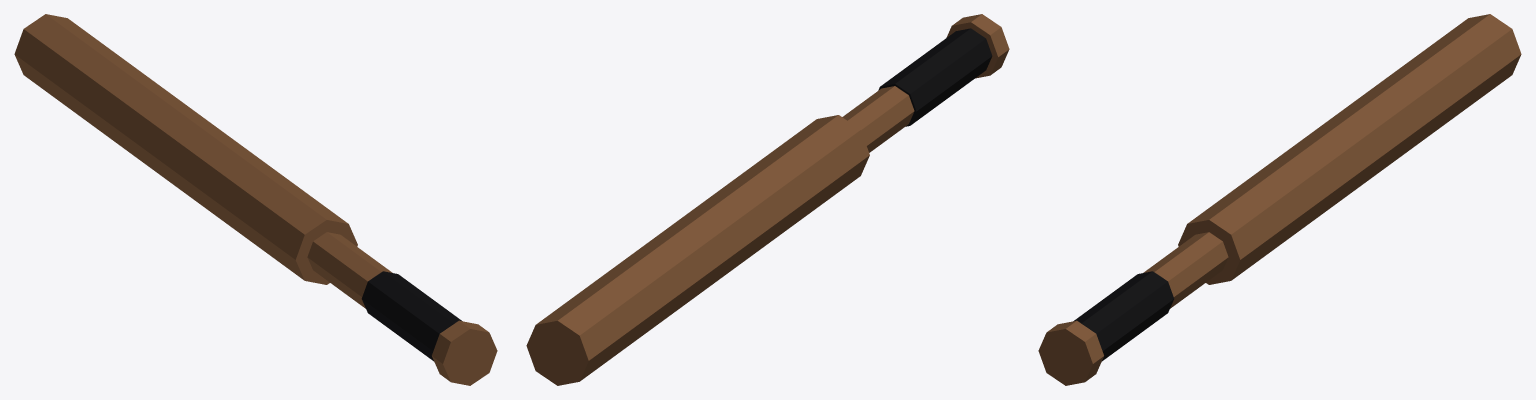
The model's file is bat.glb.
3 views of the same model, side by side, from view 1: azimuth 30°, elevation 25°; view 2: azimuth 150°, elevation 25°; view 3: azimuth 330°, elevation 25° (orthographic).
Parts seen in each view (by area): view 1: bat_Body; view 2: bat_Body; view 3: bat_Body.
Part boxes in pixels (x1,y1,x2,y2): bat_Body: (14, 14, 497, 385); bat_Body: (526, 14, 1009, 385); bat_Body: (1038, 14, 1521, 385).
Bounding box in the file's own units: 0.064 × 0.064 × 0.755.
